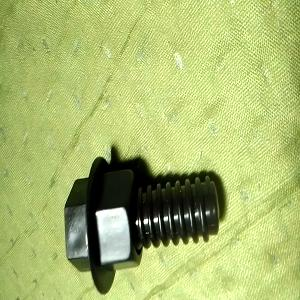parafuso: (63, 156, 221, 295)
